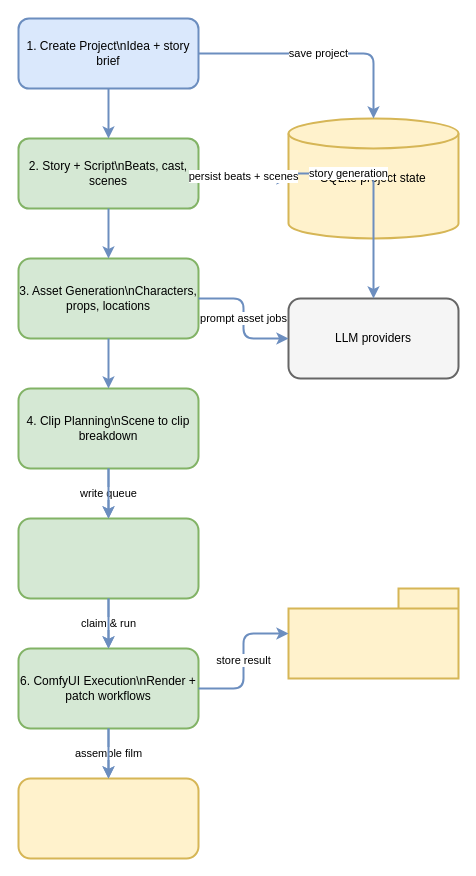
This 476x876 diagram has some shape labels left out. The shapes that lost their labels are listed below. From the top down, each one's centre as x and y in pixels, then its label:
At point (108, 558): "5. Job Queue\nPersist requested work".
At point (373, 633): "Generated images/videos".
At point (108, 818): "7. Final Output\nffmpeg assembly + media".
